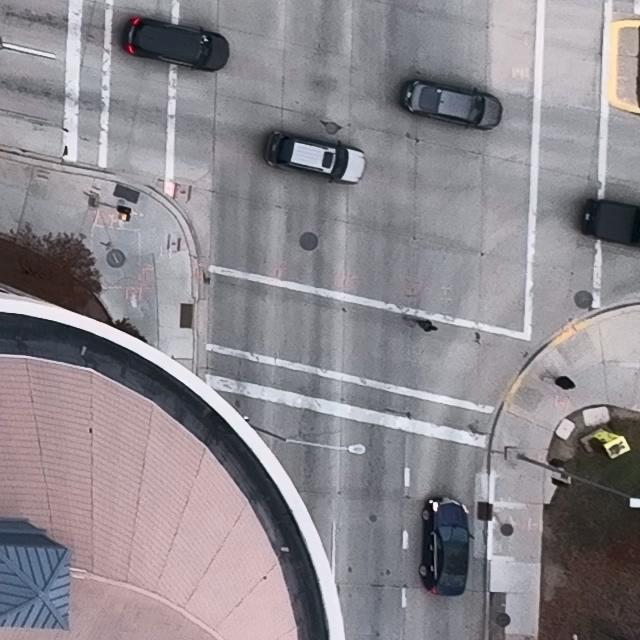car: (121, 16, 229, 73), (264, 129, 366, 184), (419, 497, 474, 597), (402, 79, 502, 131), (578, 197, 640, 248)
